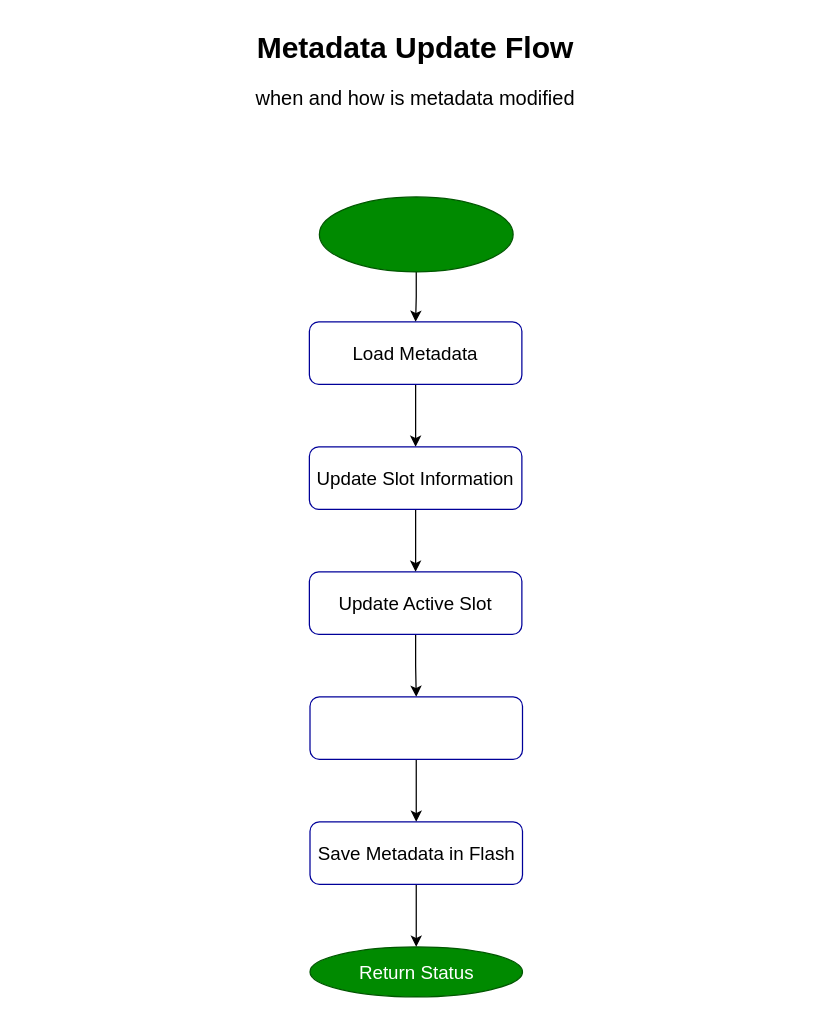
The diagram is 830 pixels wide and 1019 high, and some of its shapes have lost their labels. Here are the shapes that lost their labels. From the top down, the centre of each, then its label:
At point (415, 234): "Firmware verified".
At point (415, 727): "Recalculate Metadata CRC".
